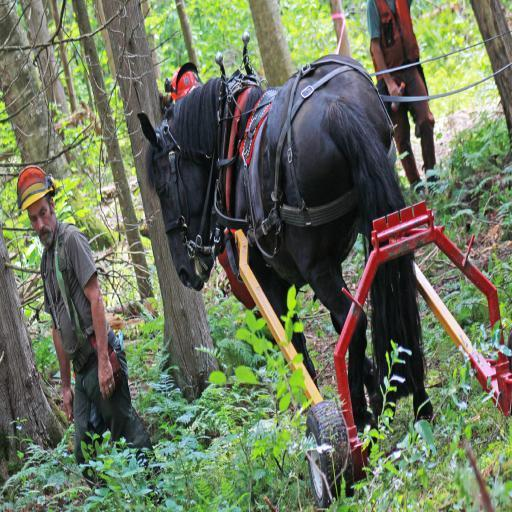horse: (136, 52, 434, 456)
